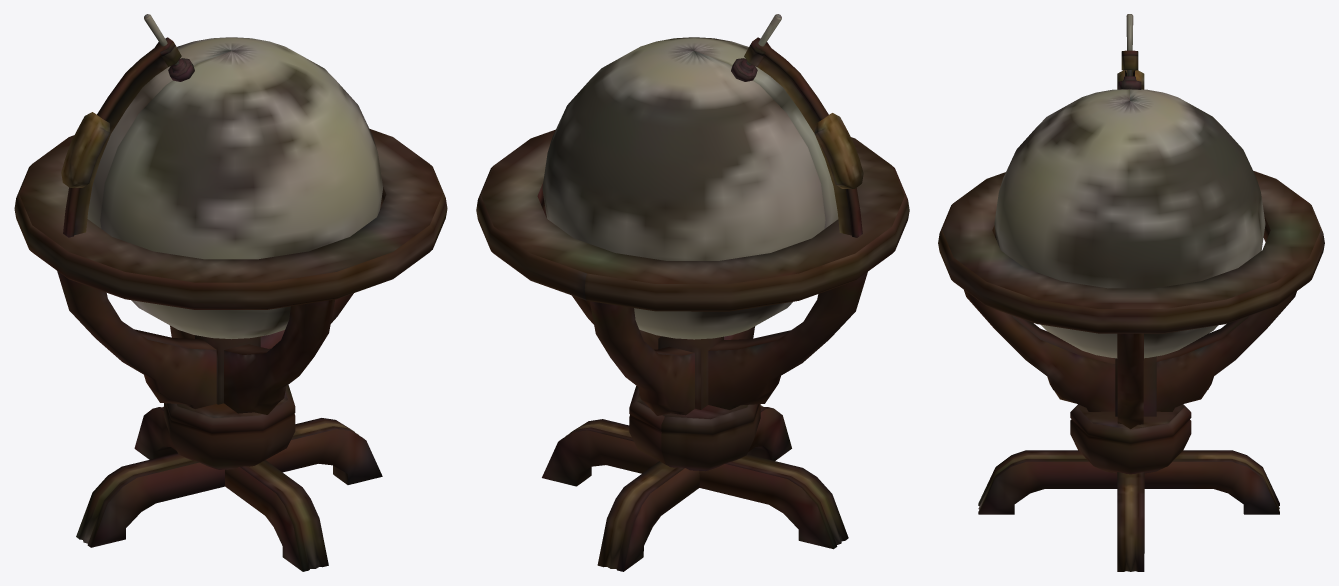
File: globe.glb
3 renders of one model, left to right at view 1: azimuth 30°, elevation 25°; view 2: azimuth 150°, elevation 25°; view 3: azimuth 270°, elevation 25°, orthographic. The views are drawn at different scales.
Parts seen in each view (by area): view 1: Object_5; view 2: Object_5; view 3: Object_5.
Part boxes in pixels (x1,y1,x2,y2): Object_5: [14, 14, 447, 571]; Object_5: [476, 14, 909, 571]; Object_5: [938, 14, 1324, 571].
Bounding box in the file's own units: 43.91 × 58.25 × 44.51.
1 material, 1 textured.
